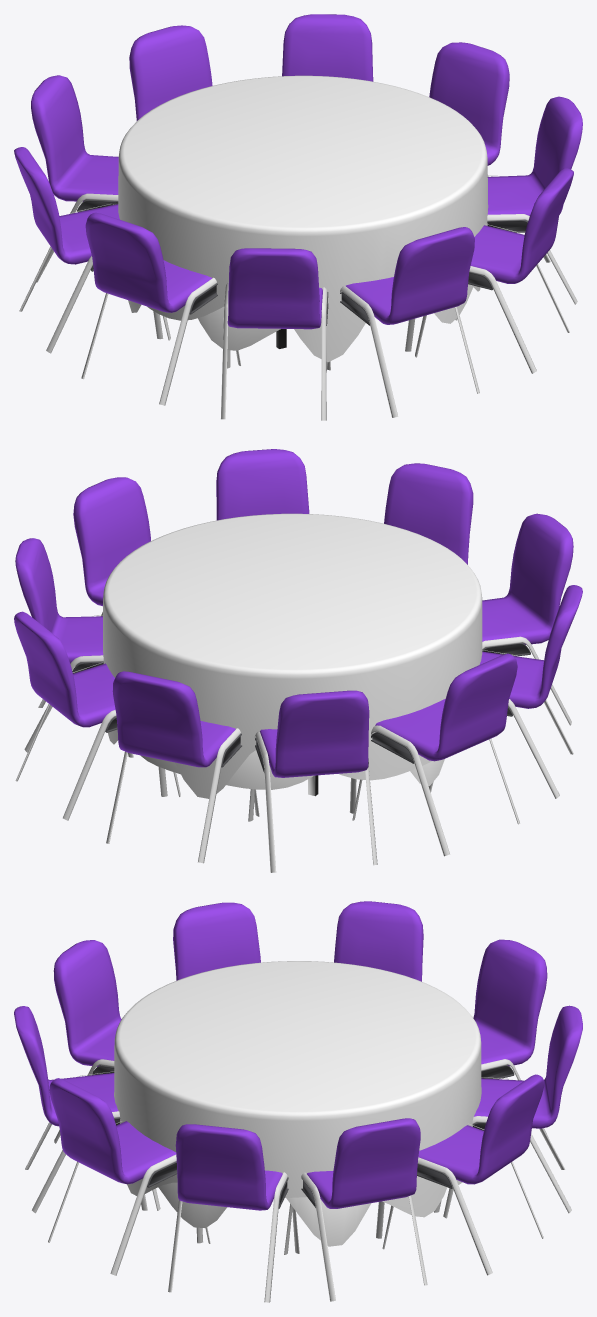
The model's file is cabaret-table.glb.
The picture shows the model from 3 angles, top to bottom: view 1: azimuth 30°, elevation 25°; view 2: azimuth 150°, elevation 25°; view 3: azimuth 270°, elevation 25°; orthographic projection. The views are drawn at different scales.
Visible parts, largest first — view 1: Cylinder102, Chair_001.003, Chair_001.005, Chair_001.004, Chair_001.007, Chair_001.002, Chair_001.001, Chair_001.010, Chair_001.008, Chair_001.009, Chair_001.006, Cylinder103; view 2: Cylinder102, Chair_001.007, Chair_001.008, Chair_001.006, Chair_001.004, Chair_001.009, Chair_001.001, Chair_001.003, Chair_001.002, Chair_001.010, Chair_001.005, Cylinder103; view 3: Cylinder102, Chair_001.010, Chair_001.001, Chair_001.002, Chair_001.009, Chair_001.007, Chair_001.004, Chair_001.006, Chair_001.005, Chair_001.008, Chair_001.003, Cylinder103.
Part boxes in pixels (x1,y1,x2,y2): Cylinder102: (118, 75, 488, 362); Chair_001.003: (326, 227, 479, 417); Chair_001.005: (81, 212, 240, 405); Chair_001.004: (220, 248, 330, 420); Chair_001.007: (31, 75, 118, 282); Chair_001.002: (415, 168, 573, 373); Chair_001.001: (455, 96, 582, 320); Chair_001.010: (429, 42, 509, 176); Chair_001.008: (129, 25, 212, 120); Chair_001.009: (282, 14, 373, 81); Chair_001.006: (14, 147, 170, 353); Cylinder103: (128, 286, 480, 350); Cylinder102: (103, 513, 482, 798); Chair_001.007: (248, 690, 377, 872); Chair_001.008: (106, 671, 259, 863); Chair_001.006: (352, 653, 519, 856); Chair_001.004: (482, 513, 573, 725); Chair_001.009: (14, 611, 180, 820); Chair_001.001: (73, 477, 150, 616); Chair_001.003: (384, 463, 473, 564); Chair_001.002: (216, 449, 309, 520); Chair_001.010: (15, 538, 103, 752); Chair_001.005: (428, 585, 582, 798); Cylinder103: (140, 750, 444, 789); Cylinder102: (114, 961, 481, 1217); Chair_001.010: (284, 1118, 427, 1301); Chair_001.001: (168, 1124, 299, 1302); Chair_001.002: (48, 1078, 210, 1275); Chair_001.009: (382, 1074, 544, 1275); Chair_001.007: (473, 939, 548, 1137); Chair_001.004: (53, 940, 121, 1143); Chair_001.006: (334, 901, 423, 981); Chair_001.005: (173, 902, 260, 980); Chair_001.008: (443, 1005, 582, 1218); Chair_001.003: (14, 1006, 160, 1213); Cylinder103: (158, 1180, 462, 1246).
Size of the model in its own units: 2.91 by 1.02 by 3.
